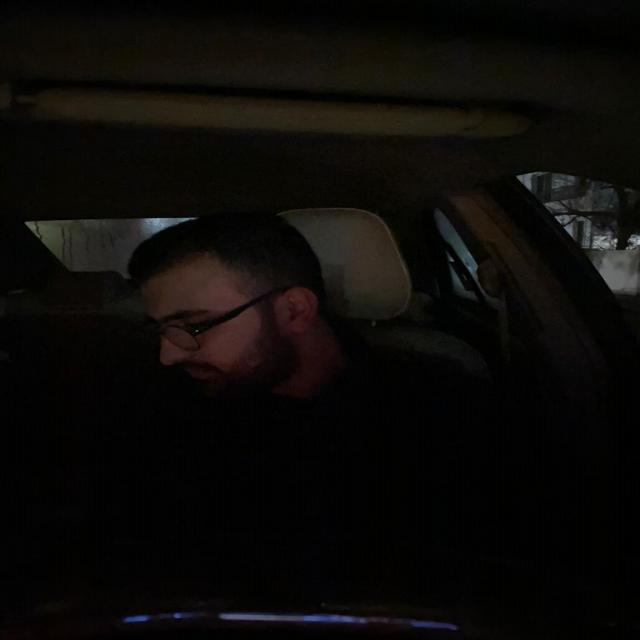LeftRight: (119, 203, 346, 409)
